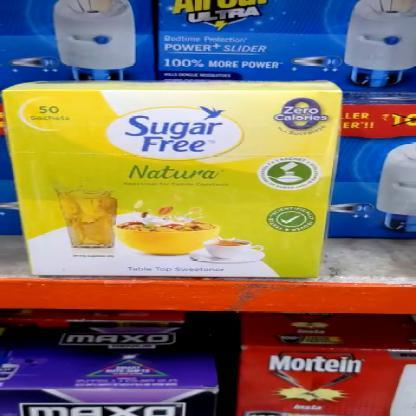SUGAR FREE NATURA SACHET 50: (0, 88, 341, 280)
